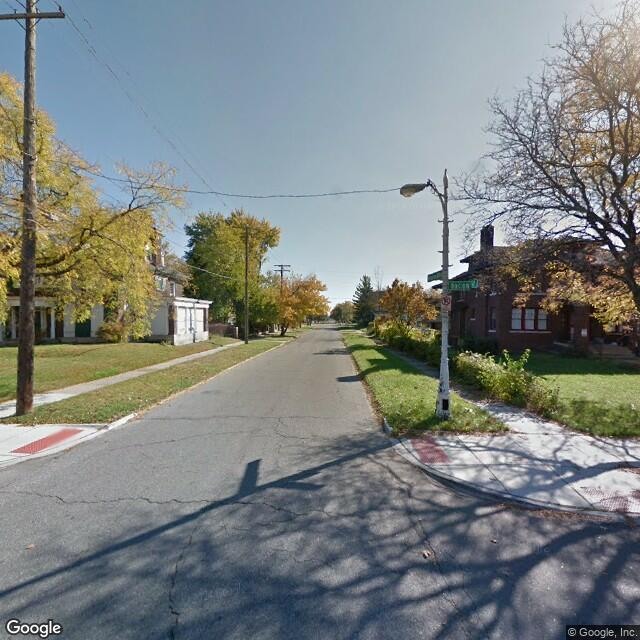litter: (419, 546, 432, 558), (488, 537, 498, 544)
